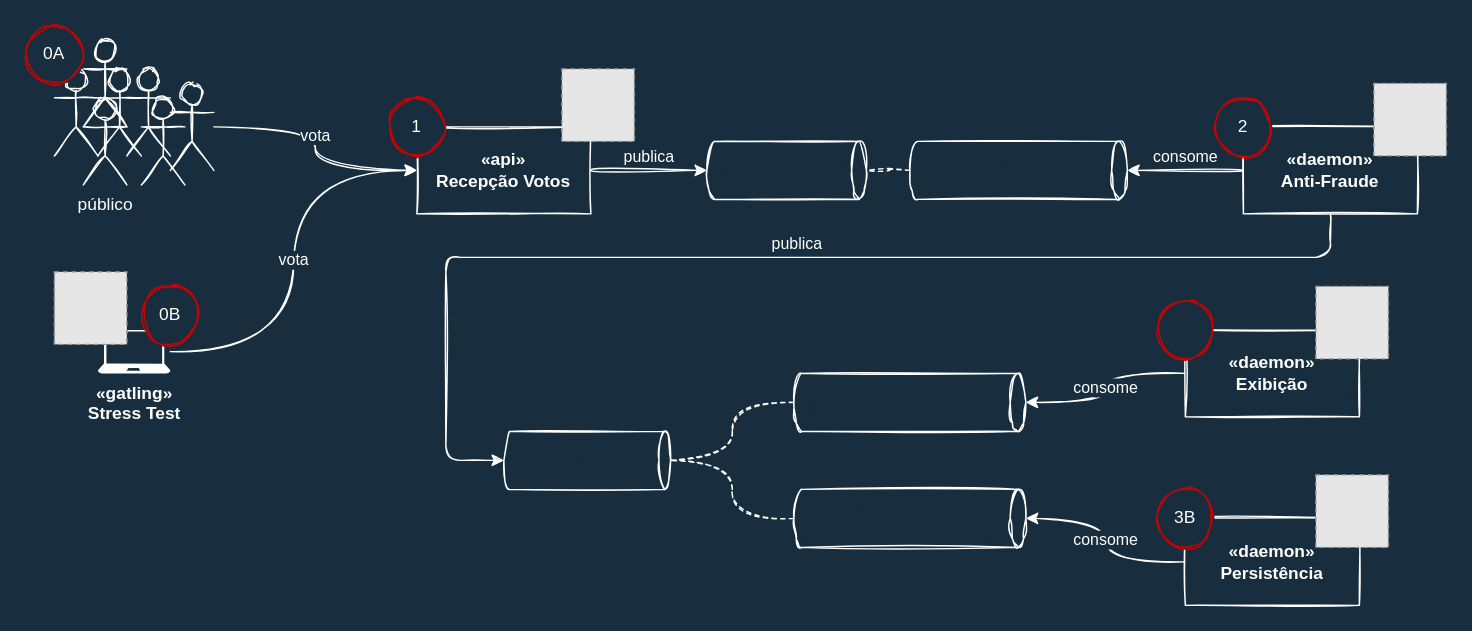
The diagram is 1472 pixels wide and 631 high, and some of its shapes have lost their labels. Grey dashed boxes stand in for pictures. The shapes that lost their labels are listed below. From the top down, each one's centre as x and y in pixels, then its label:
(x=785, y=169): «exchange» voto-solicitado
(x=1017, y=169): «queue» voto-solicitado.fraude
(x=1184, y=329): 3A
(x=909, y=401): «queue» voto-validado.exibicao
(x=586, y=459): «exchange» voto-validado
(x=909, y=517): «queue» voto-validado.persistencia
